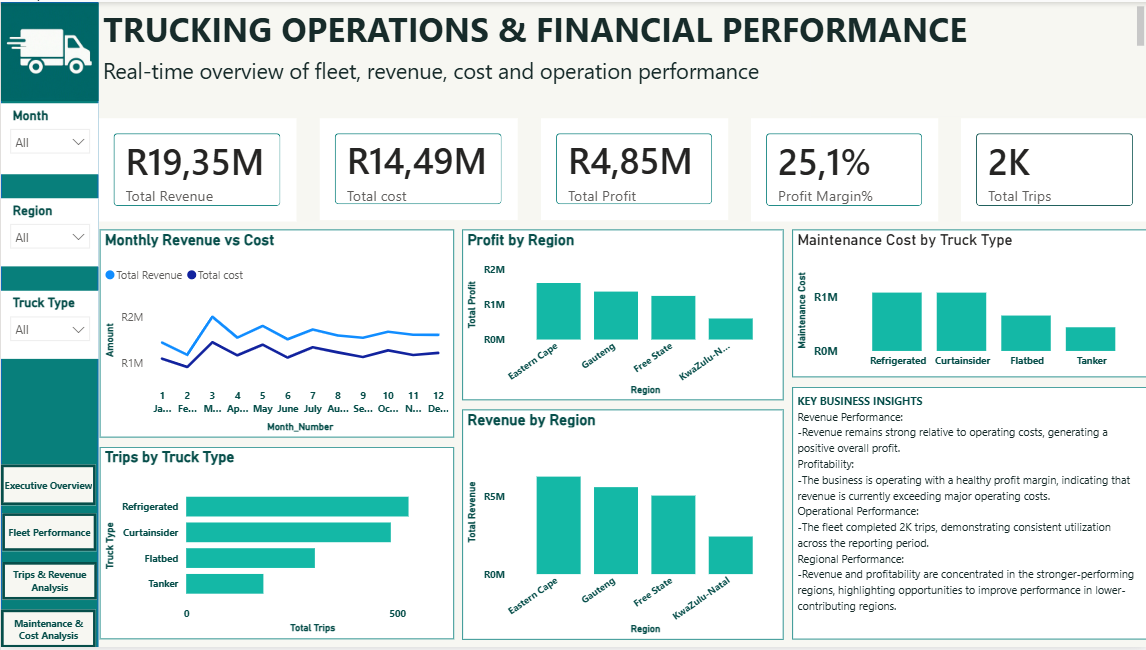

What the dashboard file says about the page in this screenshot:
{"tool":"powerbi","page":{"name":"Executive Overview","canvas":[1280,720],"ordinal":0},"visuals":[{"type":"cardVisual","title":"Total Revenue","fields":{"Data":["Trips.Total Revenue"]},"box":[108.4,129,220.9,115.3],"z":0},{"type":"cardVisual","title":"Total Cost","fields":{"Data":["Trips.Total cost"]},"box":[355.4,130.4,220.9,113.9],"z":1000},{"type":"cardVisual","title":"Total Profit","fields":{"Data":["Trips.Total Profit"]},"box":[602.4,130.4,208.6,113.9],"z":2000},{"type":"cardVisual","title":"Profit Margin%","fields":{"Data":["Trips.Profit Margin%"]},"box":[837.1,129,208.6,115.3],"z":3000},{"type":"cardVisual","title":"Total Trucks","fields":{"Data":["Trips.Total Trips"]},"box":[1070.3,129,209.9,115.3],"z":4000},{"type":"lineChart","title":"Monthly Revenue vs Cost","fields":{"Category":["Date_Dim.Month","Date_Dim.Month_Number"],"Y":["Trips.Total Revenue","Trips.Total cost"]},"box":[109.8,253.9,395.2,231.9],"z":5000},{"type":"clusteredColumnChart","title":" Revenue by Region","fields":{"Category":["Truck_Master.Region"],"Y":["Trips.Total Revenue"]},"box":[514.6,454.2,358.1,256.6],"z":6000},{"type":"clusteredBarChart","title":" Trips by Truck Type","fields":{"Category":["Truck_Master.Truck_Type"],"Y":["Trips.Total Trips"]},"box":[109.8,496.7,395.2,214.1],"z":7000},{"type":"clusteredColumnChart","title":"Maintenance Cost by Truck Type","fields":{"Category":["Truck_Master.Truck_Type"],"Y":["Maintenance.Maintenance Cost"]},"box":[882.3,253.9,397.9,164.7],"z":8000},{"type":"clusteredColumnChart","title":"Profit by Region","fields":{"Category":["Truck_Master.Region"],"Y":["Trips.Total Profit"]},"box":[514.6,253.9,358.1,190.7],"z":9000},{"type":"shape","box":[108.6,0,1171.5,129.1],"z":10000},{"type":"textbox","box":[108.6,0,1171.5,56.7],"z":11000},{"type":"textbox","box":[108.4,56.3,794.5,72.7],"z":12000},{"type":"shape","box":[0,0,108.6,720.2],"z":13000},{"type":"image","box":[0,0,108.6,112.2],"z":14000},{"type":"actionButton","box":[0,515.9,105.7,45.3],"z":15000},{"type":"actionButton","title":"Fleet Performance","box":[1.4,570.3,105,42],"z":16000},{"type":"actionButton","title":"Trips & Revenue Analysis","box":[1.4,624.7,105.7,42],"z":17000},{"type":"actionButton","title":"Maintenance & Cost Analysis","box":[0,677.5,105.7,42.5],"z":18000},{"type":"textbox","box":[882.3,429.5,397.9,281.3],"z":19000},{"type":"slicer","fields":{"Values":["Date_Dim.Month"]},"box":[0,112.5,109,79],"z":20000},{"type":"slicer","fields":{"Values":["Truck_Master.Region"]},"box":[0,218.8,109,76],"z":21000},{"type":"slicer","fields":{"Values":["Truck_Master.Truck_Type"]},"box":[0,322.1,109,76],"z":22000}]}

Visuals, with their boxes on the page's 1280x720 design canvas (x1, y1, x2, y2). These are canvas units, not pixel positions in the 1146x650 screenshot, which may show the page scaled, cropped or inside an application window:
"Total Revenue" cardVisual: bbox(108, 129, 329, 244)
"Total Cost" cardVisual: bbox(355, 130, 576, 244)
"Total Profit" cardVisual: bbox(602, 130, 811, 244)
"Profit Margin%" cardVisual: bbox(837, 129, 1046, 244)
"Total Trucks" cardVisual: bbox(1070, 129, 1280, 244)
"Monthly Revenue vs Cost" lineChart: bbox(110, 254, 505, 486)
" Revenue by Region" clusteredColumnChart: bbox(515, 454, 873, 711)
" Trips by Truck Type" clusteredBarChart: bbox(110, 497, 505, 711)
"Maintenance Cost by Truck Type" clusteredColumnChart: bbox(882, 254, 1280, 419)
"Profit by Region" clusteredColumnChart: bbox(515, 254, 873, 445)
shape: bbox(109, 0, 1280, 129)
textbox: bbox(109, 0, 1280, 57)
textbox: bbox(108, 56, 903, 129)
shape: bbox(0, 0, 109, 720)
image: bbox(0, 0, 109, 112)
actionButton: bbox(0, 516, 106, 561)
"Fleet Performance" actionButton: bbox(1, 570, 106, 612)
"Trips & Revenue Analysis" actionButton: bbox(1, 625, 107, 667)
"Maintenance & Cost Analysis" actionButton: bbox(0, 678, 106, 720)
textbox: bbox(882, 430, 1280, 711)
slicer - Date_Dim.Month: bbox(0, 112, 109, 192)
slicer - Truck_Master.Region: bbox(0, 219, 109, 295)
slicer - Truck_Master.Truck_Type: bbox(0, 322, 109, 398)
